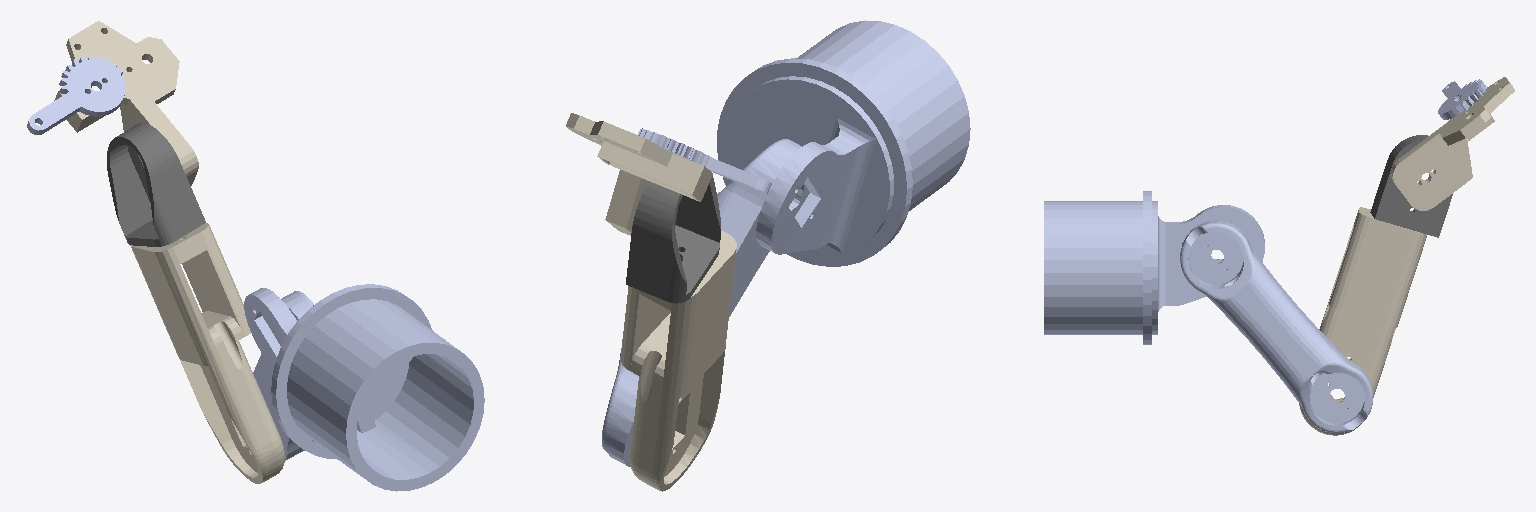
URDF robot description (robot_arm_assem_v5):
<?xml version="1.0" encoding="utf-8"?>
<!-- This URDF was automatically created by SolidWorks to URDF Exporter! Originally created by Stephen Brawner (brawner@gmail.com) 
     Commit Version: 1.6.0-4-g7f85cfe  Build Version: 1.6.7995.38578
     For more information, please see http://wiki.ros.org/sw_urdf_exporter -->
<robot
  name="robot_arm_assem_v5">
  <link
    name="base_link">
    <inertial>
      <origin
        xyz="0.00010636 0.0055666 0.0001159"
        rpy="0 0 0" />
      <mass
        value="0.057983" />
      <inertia
        ixx="4.0501E-05"
        ixy="-1.3949E-07"
        ixz="-2.5207E-07"
        iyy="5.1215E-05"
        iyz="-1.5198E-07"
        izz="4.0458E-05" />
    </inertial>
    <visual>
      <origin
        xyz="0 0 0"
        rpy="0 0 0" />
      <geometry>
        <mesh
          filename="package://robot_arm_assem_v5/meshes/base_link.STL" />
      </geometry>
      <material
        name="">
        <color
          rgba="0.79216 0.81961 0.93333 1" />
      </material>
    </visual>
    <collision>
      <origin
        xyz="0 0 0"
        rpy="0 0 0" />
      <geometry>
        <mesh
          filename="package://robot_arm_assem_v5/meshes/base_link.STL" />
      </geometry>
    </collision>
  </link>
  <link
    name="waist_link">
    <inertial>
      <origin
        xyz="-0.007295 0.012671 0.00011434"
        rpy="0 0 0" />
      <mass
        value="0.022351" />
      <inertia
        ixx="9.9462E-06"
        ixy="1.7449E-06"
        ixz="4.9264E-07"
        iyy="8.1785E-06"
        iyz="-6.2086E-07"
        izz="9.3044E-06" />
    </inertial>
    <visual>
      <origin
        xyz="0 0 0"
        rpy="0 0 0" />
      <geometry>
        <mesh
          filename="package://robot_arm_assem_v5/meshes/waist_link.STL" />
      </geometry>
      <material
        name="">
        <color
          rgba="0.79216 0.81961 0.93333 1" />
      </material>
    </visual>
    <collision>
      <origin
        xyz="0 0 0"
        rpy="0 0 0" />
      <geometry>
        <mesh
          filename="package://robot_arm_assem_v5/meshes/waist_link.STL" />
      </geometry>
    </collision>
  </link>
  <joint
    name="base_waist_joint"
    type="revolute">
    <origin
      xyz="-0.00017745 0.029613 -0.00019334"
      rpy="0 0 0" />
    <parent
      link="base_link" />
    <child
      link="waist_link" />
    <axis
      xyz="0 1 0" />
    <limit
      lower="0"
      upper="3.14"
      effort="0.146"
      velocity="9.82" />
  </joint>
  <link
    name="link1">
    <inertial>
      <origin
        xyz="0.015721 0.029297 -0.030954"
        rpy="0 0 0" />
      <mass
        value="0.040194" />
      <inertia
        ixx="3.5922E-05"
        ixy="-4.1221E-06"
        ixz="5.1859E-06"
        iyy="2.2404E-05"
        iyz="1.4367E-05"
        izz="1.9341E-05" />
    </inertial>
    <visual>
      <origin
        xyz="0 0 0"
        rpy="0 0 0" />
      <geometry>
        <mesh
          filename="package://robot_arm_assem_v5/meshes/link1.STL" />
      </geometry>
      <material
        name="">
        <color
          rgba="0.79216 0.81961 0.93333 1" />
      </material>
    </visual>
    <collision>
      <origin
        xyz="0 0 0"
        rpy="0 0 0" />
      <geometry>
        <mesh
          filename="package://robot_arm_assem_v5/meshes/link1.STL" />
      </geometry>
    </collision>
  </link>
  <joint
    name="waist_link1_joint"
    type="revolute">
    <origin
      xyz="-0.0064566 0.029788 0.0031782"
      rpy="0 0 0" />
    <parent
      link="waist_link" />
    <child
      link="link1" />
    <axis
      xyz="-0.96099 0 -0.27657" />
    <limit
      lower="0"
      upper="3.14"
      effort="0.146"
      velocity="9.82" />
  </joint>
  <link
    name="link2">
    <inertial>
      <origin
        xyz="-0.0159225649644726 0.0135904887252098 0.039335857294881"
        rpy="0 0 0" />
      <mass
        value="0.0454562115779112" />
      <inertia
        ixx="4.27689544051916E-05"
        ixy="2.66278541913743E-06"
        ixz="8.60059722708219E-06"
        iyy="3.94200175320324E-05"
        iyz="-1.01044248543794E-05"
        izz="1.26062971505455E-05" />
    </inertial>
    <visual>
      <origin
        xyz="0 0 0"
        rpy="0 0 0" />
      <geometry>
        <mesh
          filename="package://robot_arm_assem_v5/meshes/link2.STL" />
      </geometry>
      <material
        name="">
        <color
          rgba="0.843137254901961 0.815686274509804 0.752941176470588 1" />
      </material>
    </visual>
    <collision>
      <origin
        xyz="0 0 0"
        rpy="0 0 0" />
      <geometry>
        <mesh
          filename="package://robot_arm_assem_v5/meshes/link2.STL" />
      </geometry>
    </collision>
  </link>
  <joint
    name="link1-2"
    type="revolute">
    <origin
      xyz="0.016994 0.058008 -0.068233"
      rpy="0 0 0" />
    <parent
      link="link1" />
    <child
      link="link2" />
    <axis
      xyz="-0.96099 0 -0.27657" />
    <limit
      lower="0"
      upper="3.14"
      effort="0.146"
      velocity="9.82" />
  </joint>
  <link
    name="link3">
    <inertial>
      <origin
        xyz="-0.000334735779892736 0.00540348065662932 0.015497778846856"
        rpy="0 0 0" />
      <mass
        value="0.00981864215060104" />
      <inertia
        ixx="3.20123412887003E-06"
        ixy="1.10132373995904E-07"
        ixz="1.77292481352179E-07"
        iyy="2.19174727200578E-06"
        iyz="-2.0393715141593E-07"
        izz="1.64877040721313E-06" />
    </inertial>
    <visual>
      <origin
        xyz="0 0 0"
        rpy="0 0 0" />
      <geometry>
        <mesh
          filename="package://robot_arm_assem_v5/meshes/link3.STL" />
      </geometry>
      <material
        name="">
        <color
          rgba="0.498039215686275 0.498039215686275 0.498039215686275 1" />
      </material>
    </visual>
    <collision>
      <origin
        xyz="0 0 0"
        rpy="0 0 0" />
      <geometry>
        <mesh
          filename="package://robot_arm_assem_v5/meshes/link3.STL" />
      </geometry>
    </collision>
  </link>
  <joint
    name="link2_3"
    type="revolute">
    <origin
      xyz="-0.027846 0.033461 0.082292"
      rpy="0 0 0" />
    <parent
      link="link2" />
    <child
      link="link3" />
    <axis
      xyz="-0.26326 0.30651 0.91474" />
    <limit
      lower="0"
      upper="3.14"
      effort="0.146"
      velocity="9.82" />
  </joint>
  <link
    name="gripper_base_link">
    <inertial>
      <origin
        xyz="-0.0055990048122696 0.0133466775371632 0.0156386304362006"
        rpy="0 0 0" />
      <mass
        value="0.0150404372912963" />
      <inertia
        ixx="6.07424693025213E-06"
        ixy="8.78690892631588E-07"
        ixz="8.98042927566733E-07"
        iyy="5.12089921074716E-06"
        iyz="-2.40516420426832E-06"
        izz="4.20674890158623E-06" />
    </inertial>
    <visual>
      <origin
        xyz="0 0 0"
        rpy="0 0 0" />
      <geometry>
        <mesh
          filename="package://robot_arm_assem_v5/meshes/gripper_base_link.STL" />
      </geometry>
      <material
        name="">
        <color
          rgba="0.843137254901961 0.815686274509804 0.752941176470588 1" />
      </material>
    </visual>
    <collision>
      <origin
        xyz="0 0 0"
        rpy="0 0 0" />
      <geometry>
        <mesh
          filename="package://robot_arm_assem_v5/meshes/gripper_base_link.STL" />
      </geometry>
    </collision>
  </link>
  <joint
    name="gripper_arm_joint"
    type="revolute">
    <origin
      xyz="0.0076081 0.0099309 0.027285"
      rpy="0 0 0" />
    <parent
      link="link3" />
    <child
      link="gripper_base_link" />
    <axis
      xyz="-0.96353 -0.13078 -0.23348" />
    <limit
      lower="0"
      upper="3.14"
      effort="0.146"
      velocity="9.82" />
  </joint>
  <link
    name="gear_right_link">
    <inertial>
      <origin
        xyz="-0.00559293838577946 -0.000325952281023389 -0.0010377413703081"
        rpy="0 0 0" />
      <mass
        value="0.00256591298624026" />
      <inertia
        ixx="1.17126763807571E-07"
        ixy="-3.88953177692023E-08"
        ixz="-7.55111664467117E-08"
        iyy="3.84123320773968E-07"
        iyz="-5.10575351231894E-08"
        izz="3.97980466802466E-07" />
    </inertial>
    <visual>
      <origin
        xyz="0 0 0"
        rpy="0 0 0" />
      <geometry>
        <mesh
          filename="package://robot_arm_assem_v5/meshes/gear_right_link.STL" />
      </geometry>
      <material
        name="">
        <color
          rgba="0.792156862745098 0.819607843137255 0.933333333333333 1" />
      </material>
    </visual>
    <collision>
      <origin
        xyz="0 0 0"
        rpy="0 0 0" />
      <geometry>
        <mesh
          filename="package://robot_arm_assem_v5/meshes/gear_right_link.STL" />
      </geometry>
    </collision>
  </link>
  <joint
    name="gear_gripper_link"
    type="revolute">
    <origin
      xyz="-0.023778 0.016887 0.028953"
      rpy="0 0 0" />
    <parent
      link="gripper_base_link" />
    <child
      link="gear_right_link" />
    <axis
      xyz="0.11443 0.58734 -0.80121" />
    <limit
      lower="0"
      upper="3.14"
      effort="0.146"
      velocity="9.82" />
  </joint>
</robot>

--- Render facts (derived) ---
3 views of the same robot in one strip: view 1: azimuth 30°, elevation 25°; view 2: azimuth 150°, elevation 25°; view 3: azimuth 270°, elevation 25° (orthographic).
Model robot_arm_assem_v5 with 7 links and 6 joints (6 revolute), rooted at base_link, posed every joint at zero.
Links seen in each view (by area): view 1: base_link, link2, link3, gripper_base_link, gear_right_link, waist_link, link1; view 2: waist_link, base_link, link2, link3, link1, gripper_base_link, gear_right_link; view 3: link1, base_link, link2, gripper_base_link, waist_link, link3, gear_right_link.
Boxes of the visible links, x1=… form: base_link: x1=271, y1=284, x2=484, y2=491; link2: x1=130, y1=223, x2=284, y2=483; link3: x1=107, y1=123, x2=205, y2=246; gripper_base_link: x1=54, y1=21, x2=198, y2=185; gear_right_link: x1=27, y1=55, x2=125, y2=134; waist_link: x1=244, y1=288, x2=408, y2=420; link1: x1=253, y1=291, x2=313, y2=460; waist_link: x1=725, y1=76, x2=893, y2=256; base_link: x1=717, y1=20, x2=970, y2=266; link2: x1=621, y1=230, x2=736, y2=491; link3: x1=626, y1=176, x2=720, y2=303; link1: x1=602, y1=139, x2=801, y2=466; gripper_base_link: x1=566, y1=113, x2=712, y2=235; gear_right_link: x1=638, y1=128, x2=771, y2=193; link1: x1=1180, y1=220, x2=1372, y2=432; base_link: x1=1044, y1=191, x2=1151, y2=344; link2: x1=1299, y1=207, x2=1426, y2=435; gripper_base_link: x1=1391, y1=77, x2=1514, y2=210; waist_link: x1=1152, y1=201, x2=1264, y2=334; link3: x1=1370, y1=135, x2=1452, y2=237; gear_right_link: x1=1438, y1=79, x2=1486, y2=119.
Bounding box of the posed robot: 0.1046 × 0.2284 × 0.177 m (x, y, z).
7 mesh visuals loaded from 7 distinct referenced files (7 binary STL).
